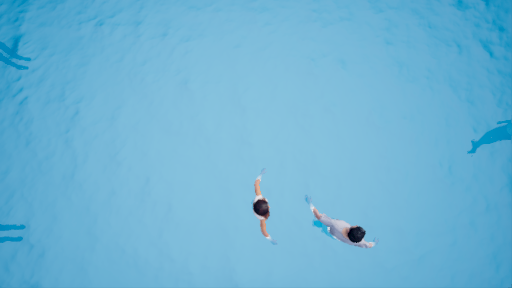person: (302, 192, 383, 254), (249, 166, 284, 248)
